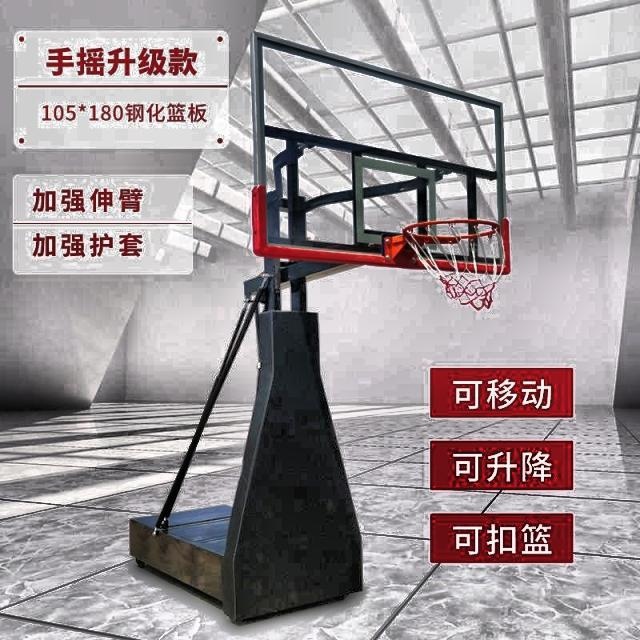rim: (403, 218, 503, 310)
